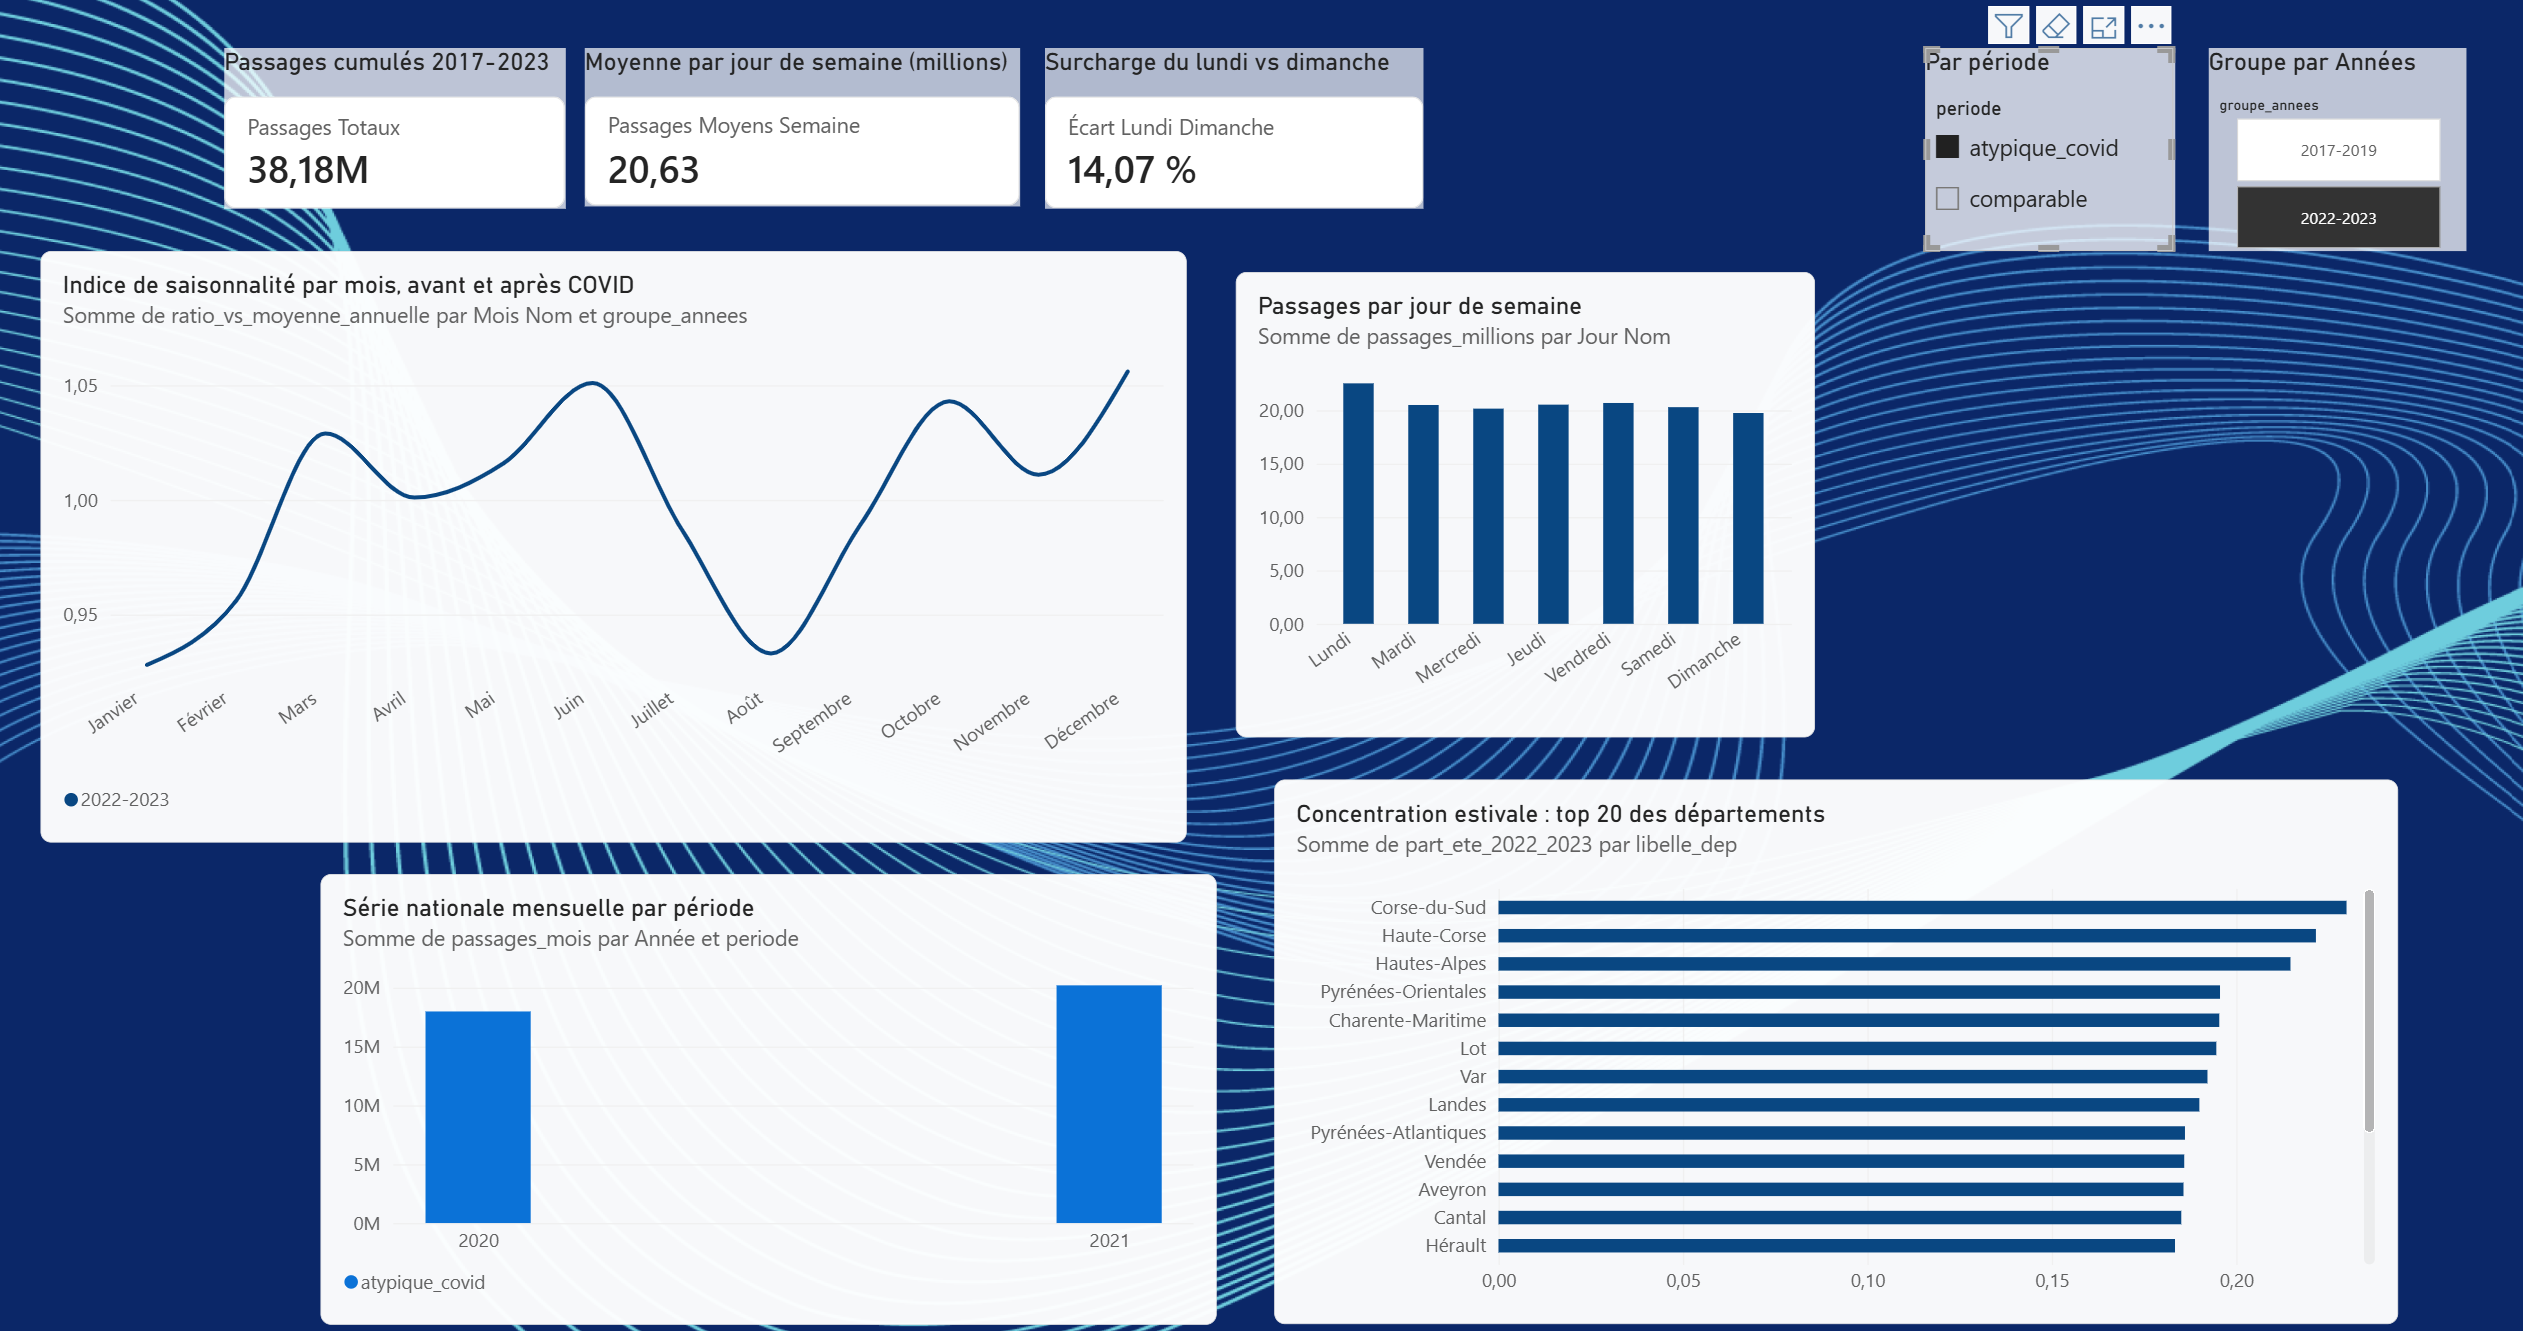

The dashboard page shown, as its layout file describes it:
{"tool":"powerbi","page":{"name":"Saisonnalité des passages aux urgences","canvas":[1920,1080],"ordinal":0},"visuals":[{"type":"textbox","box":[336.6,0,1528.3,62.5],"z":1},{"type":"lineChart","title":"Indice de saisonnalité par mois, avant et après COVID","fields":{"Category":["RatioMensuel.Mois Nom"],"Series":["RatioMensuel.groupe_annees"],"Y":["Sum(RatioMensuel.ratio_vs_moyenne_annuelle)"]},"box":[44.1,233.6,851.5,439.5],"z":2},{"type":"columnChart","title":"Passages par jour de semaine","fields":{"Category":["JourSemaine.Jour Nom"],"Y":["Sum(JourSemaine.passages_millions)"]},"box":[932.4,250.1,430.3,345.7],"z":3},{"type":"columnChart","title":"Série nationale mensuelle par période","fields":{"Category":["SerieNationale.mois.Variation.Hiérarchie de dates.Année","SerieNationale.mois.Variation.Hiérarchie de dates.Trimestre","SerieNationale.mois.Variation.Hiérarchie de dates.Mois","SerieNationale.mois.Variation.Hiérarchie de dates.Jour"],"Series":["SerieNationale.periode"],"Y":["Sum(SerieNationale.passages_mois)"]},"box":[252,697,665.7,334.7],"z":4},{"type":"barChart","title":"Concentration estivale : top 20 des départements","fields":{"Category":["Top20Ete.libelle_dep"],"Y":["Sum(Top20Ete.part_ete_2022_2023)"]},"box":[960,627.1,834.9,404.6],"z":5},{"type":"cardVisual","title":"Passages cumulés 2017-2023","fields":{"Data":["CycleMensuel.Passages Totaux"]},"box":[180.2,82.8,253.8,119.5],"z":6},{"type":"cardVisual","title":"Moyenne par jour de semaine (millions)","fields":{"Data":["CycleMensuel.Passages Moyens Semaine"]},"box":[448.7,82.8,323.7,117.7],"z":7},{"type":"cardVisual","title":"Surcharge du lundi vs dimanche","fields":{"Data":["CycleMensuel.Écart Lundi Dimanche"]},"box":[790.8,82.8,281.4,119.5],"z":8},{"type":"slicer","title":"Par période","fields":{"Values":["SerieNationale.periode"]},"box":[1443.7,82.8,185.7,150.8],"z":9},{"type":"slicer","title":"Groupe par Années","fields":{"Values":["RatioMensuel.groupe_annees"]},"box":[1655.2,82.8,191.3,150.8],"z":10}]}

Visuals, with their boxes on the page's 1920x1080 design canvas (x1, y1, x2, y2). These are canvas units, not pixel positions in the 2523x1331 screenshot, which may show the page scaled, cropped or inside an application window:
textbox: (337,0,1865,62)
"Indice de saisonnalité par mois, avant et après COVID" lineChart: (44,234,896,673)
"Passages par jour de semaine" columnChart: (932,250,1363,596)
"Série nationale mensuelle par période" columnChart: (252,697,918,1032)
"Concentration estivale : top 20 des départements" barChart: (960,627,1795,1032)
"Passages cumulés 2017-2023" cardVisual: (180,83,434,202)
"Moyenne par jour de semaine (millions)" cardVisual: (449,83,772,200)
"Surcharge du lundi vs dimanche" cardVisual: (791,83,1072,202)
"Par période" slicer: (1444,83,1629,234)
"Groupe par Années" slicer: (1655,83,1846,234)
